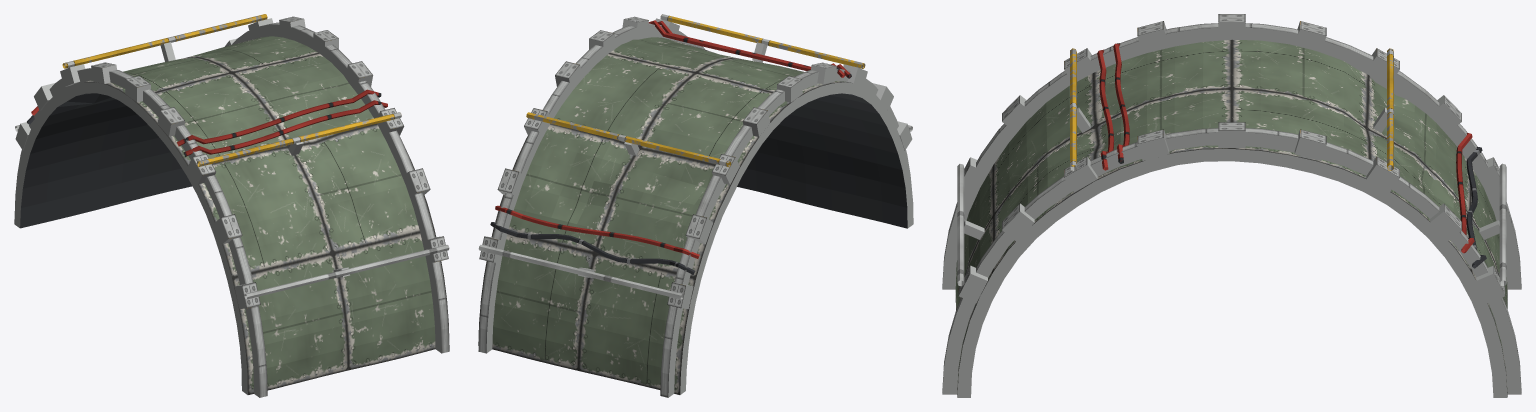
Rendered from hull_plain_green.fbx.
3 views of the same model, side by side, from view 1: azimuth 30°, elevation 25°; view 2: azimuth 150°, elevation 25°; view 3: azimuth 270°, elevation 25° (orthographic). The views are drawn at different scales.
Visible parts, largest first — view 1: hull_plain_green; view 2: hull_plain_green; view 3: hull_plain_green.
Boxes of the visible parts, box(x1,y1,x2,y2) form: hull_plain_green: box(14, 14, 449, 397); hull_plain_green: box(478, 14, 913, 397); hull_plain_green: box(942, 14, 1521, 397).
Size of the model in its own units: 1.01 by 1.07 by 2.1.
1 material, 1 textured.
